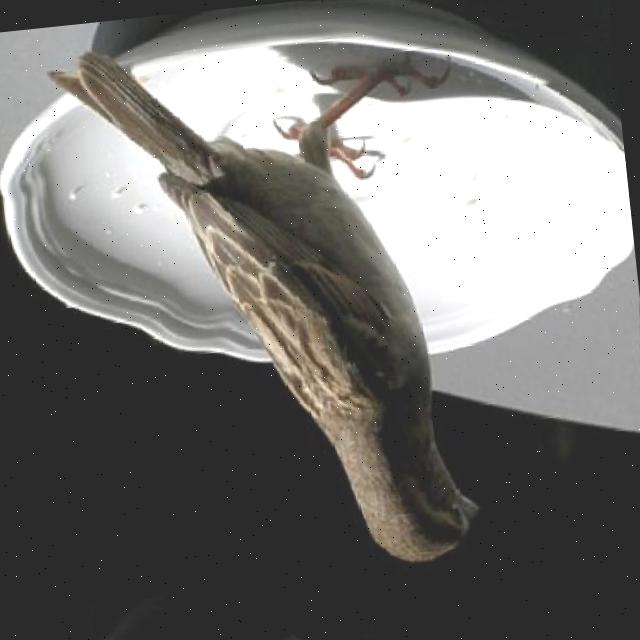sparrow: (46, 1, 548, 604)
